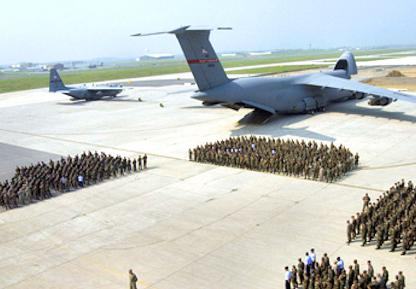Be200: (40, 67, 134, 100)
C17: (129, 24, 415, 126)
